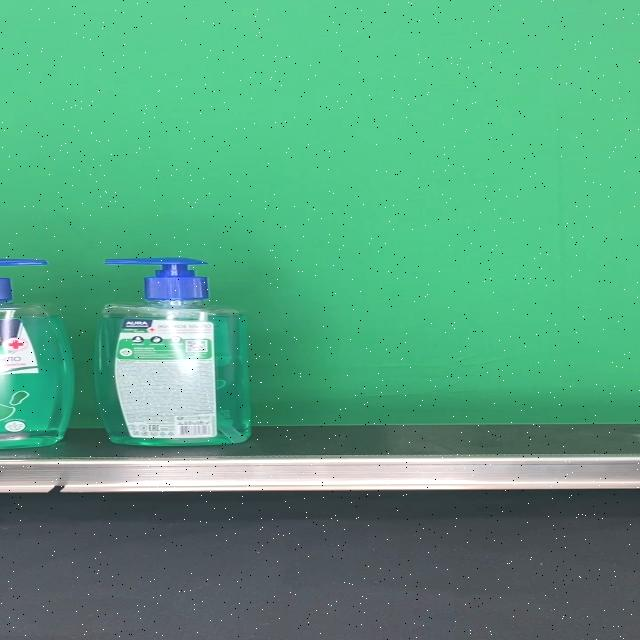Bottle: (94, 257, 252, 446)
Cap: (104, 258, 208, 300)
